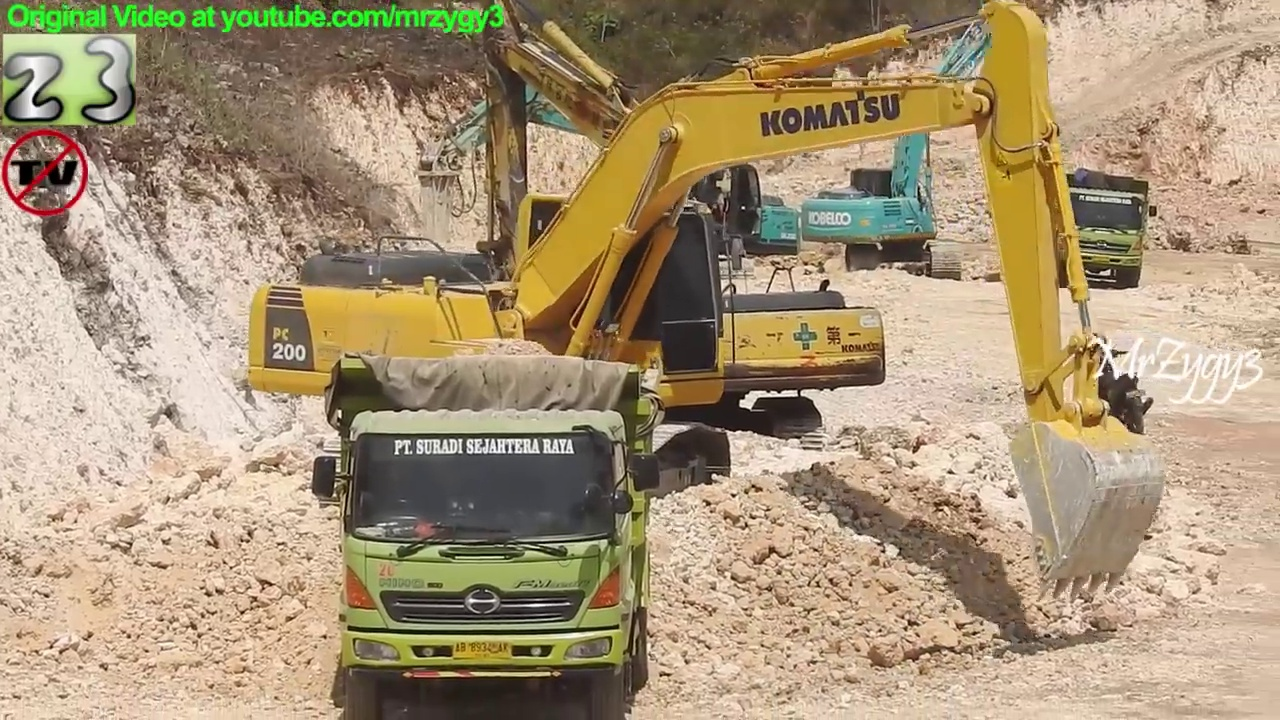excavator: (234, 1, 1172, 612), (461, 1, 896, 465), (406, 72, 809, 292), (793, 1, 1054, 288)
truck: (307, 348, 671, 720), (1031, 164, 1165, 295)
